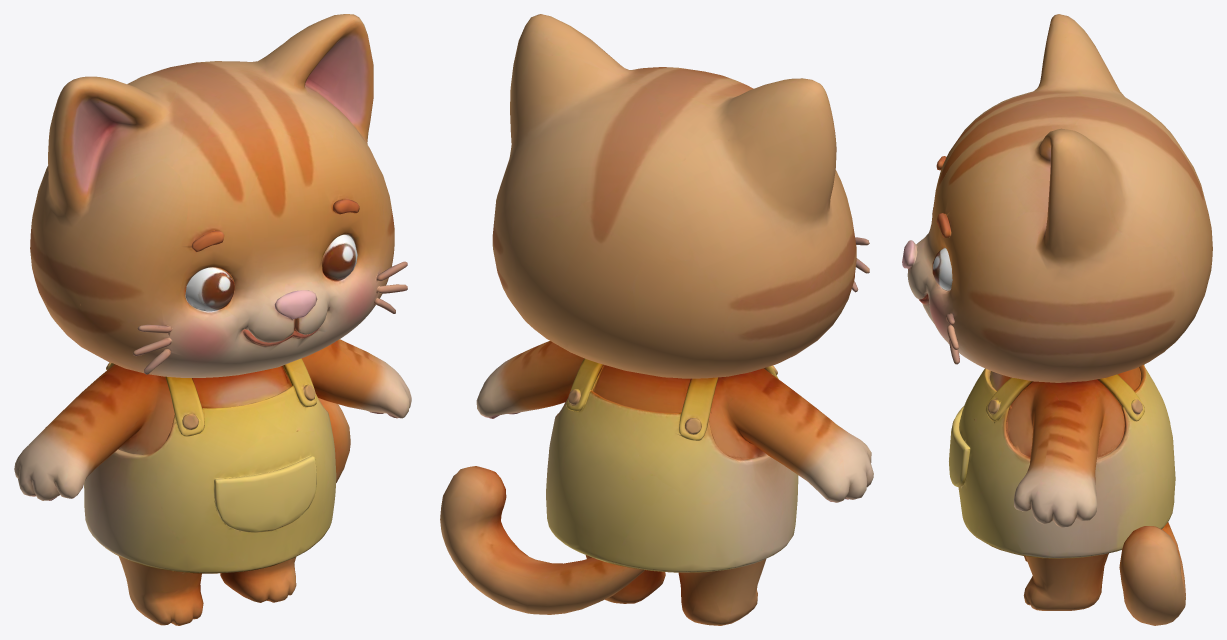
Rendered from npc_cat.glb.
The picture shows the model from 3 angles, left to right: view 1: azimuth 30°, elevation 25°; view 2: azimuth 150°, elevation 25°; view 3: azimuth 270°, elevation 25°; orthographic projection. The views are drawn at different scales.
Visible parts, largest first — view 1: node_0; view 2: node_0; view 3: node_0.
Part boxes in pixels (x1,y1,x2,y2): node_0: (14,14,411,625); node_0: (440,14,873,625); node_0: (902,14,1212,625).
Size of the model in its own units: 0.7705 by 1.06 by 0.5909.
1 material, 1 textured.
